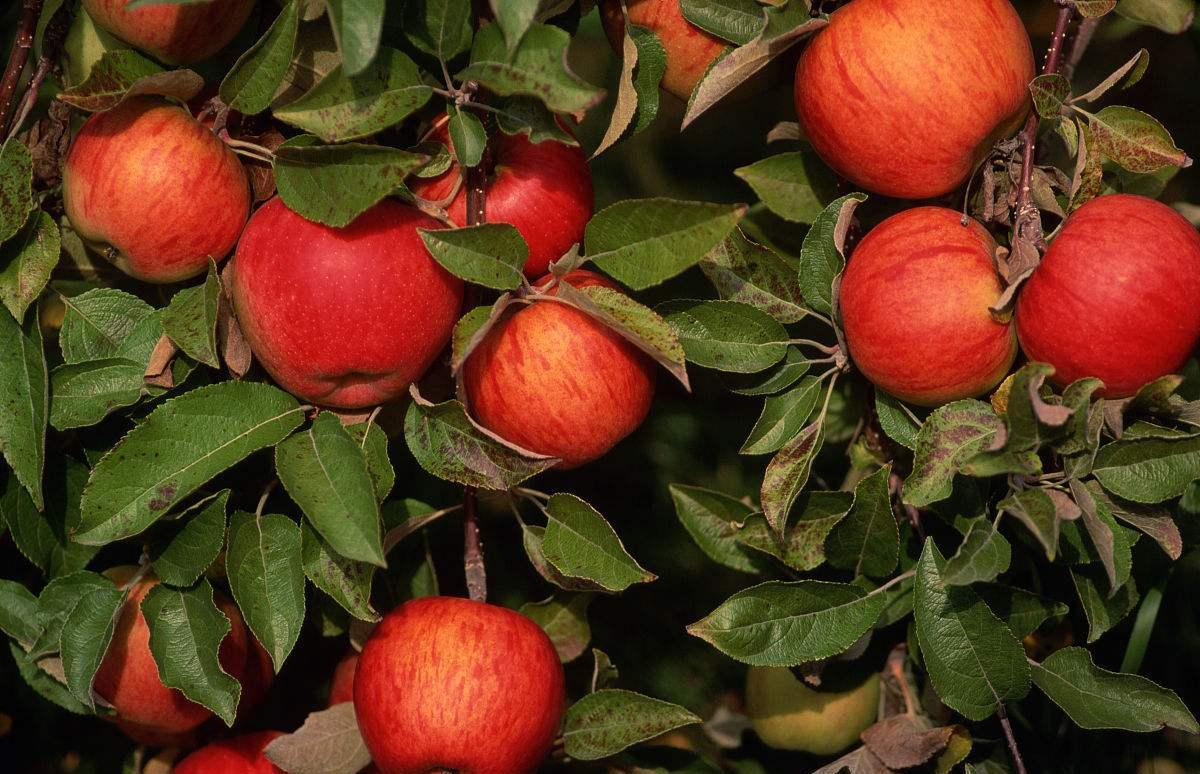apple: (229, 190, 462, 409), (797, 1, 1035, 198), (346, 593, 562, 770), (1011, 191, 1197, 393), (62, 92, 253, 284), (837, 204, 1018, 402), (460, 272, 648, 460), (425, 137, 589, 270)
